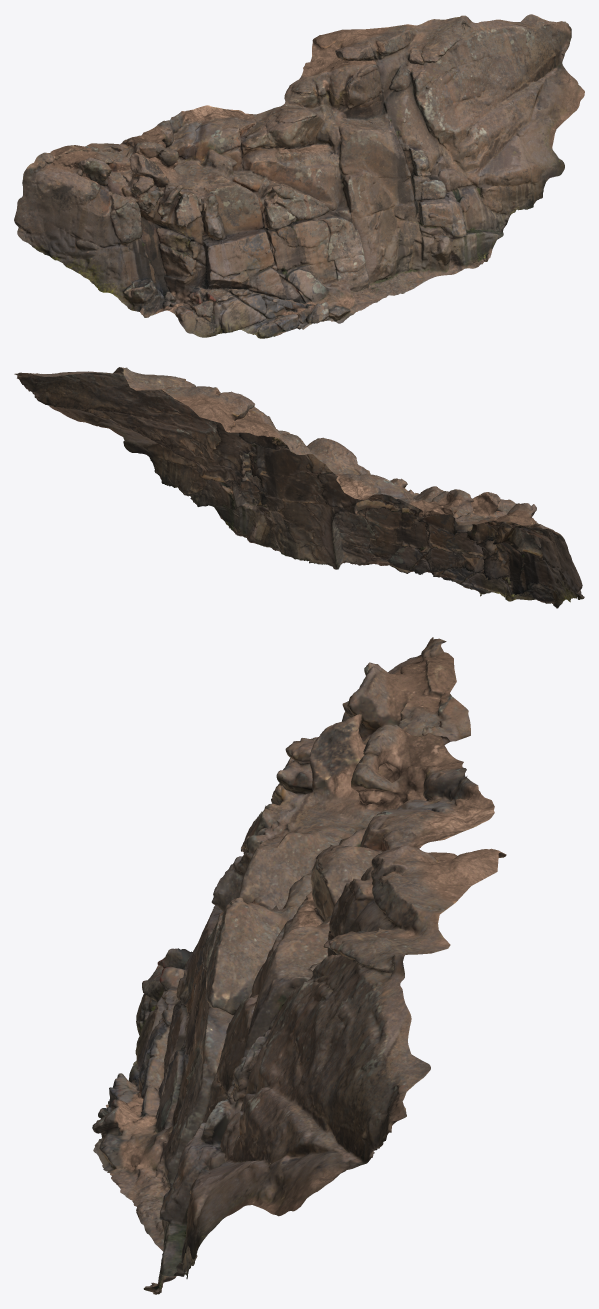
Rendered from namaqualand_cliff_02_2k.fbx.
The picture shows the model from 3 angles, top to bottom: view 1: azimuth 30°, elevation 25°; view 2: azimuth 150°, elevation 25°; view 3: azimuth 270°, elevation 25°; orthographic projection. The views are drawn at different scales.
Visible parts, largest first — view 1: namaqualand_cliff_02_LOD0; view 2: namaqualand_cliff_02_LOD0; view 3: namaqualand_cliff_02_LOD0.
Part boxes in pixels (box(x1,y1,x2,y2)): namaqualand_cliff_02_LOD0: box(14, 14, 584, 338); namaqualand_cliff_02_LOD0: box(14, 367, 584, 608); namaqualand_cliff_02_LOD0: box(92, 637, 506, 1294).
Size of the model in its own units: 2023 by 718 by 659.
1 material, 1 textured.
